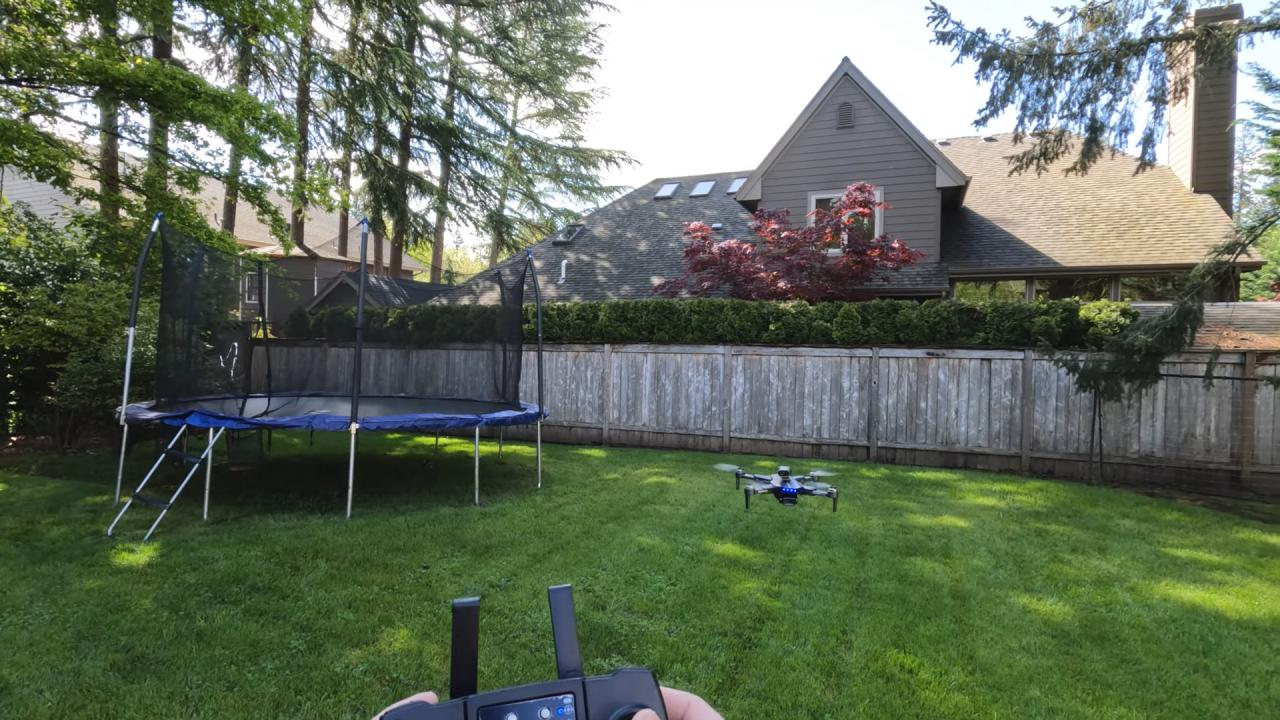Drone: (709, 455, 847, 519)
